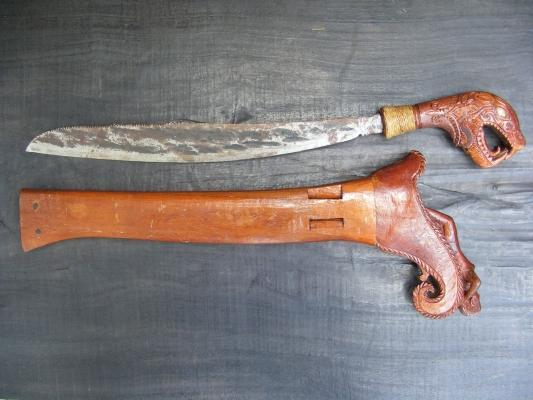espada: (27, 91, 524, 167)
